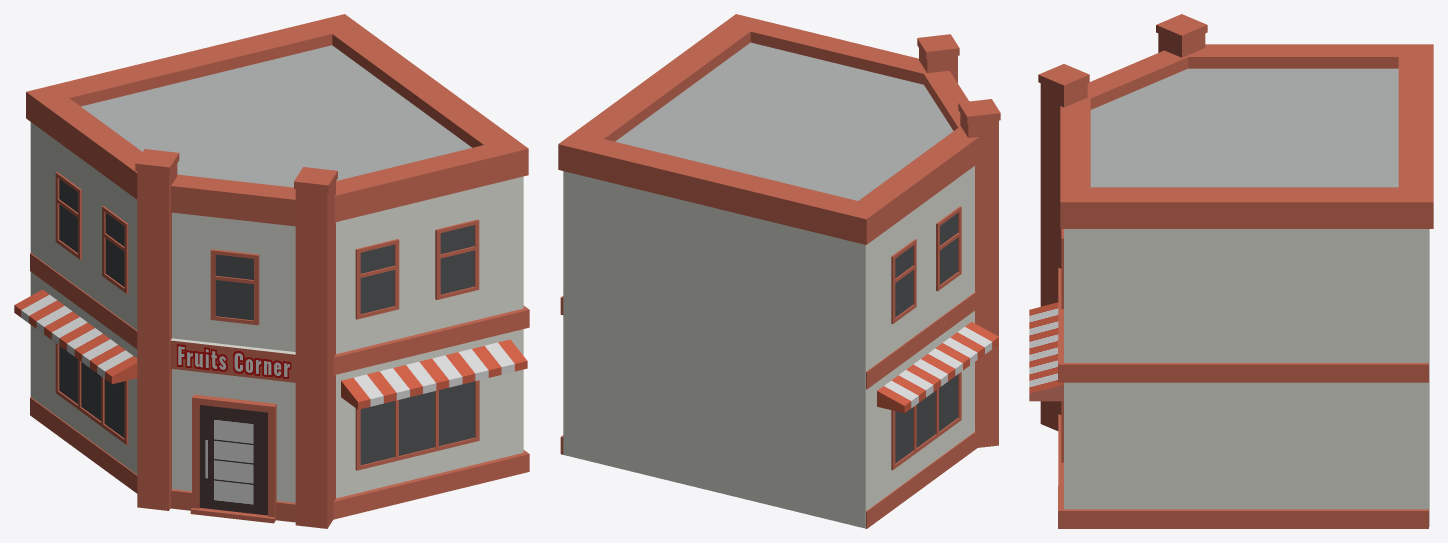
The model's file is building-fruits-shop.glb.
3 renders of one model, left to right at view 1: azimuth 30°, elevation 25°; view 2: azimuth 150°, elevation 25°; view 3: azimuth 270°, elevation 25°, orthographic. The views are drawn at different scales.
Visible parts, largest first — view 1: model; view 2: model; view 3: model.
Part boxes in pixels (box(x1,y1,x2,y2)): model: box(14, 14, 529, 528); model: box(558, 14, 1000, 528); model: box(1029, 14, 1433, 528).
Size of the model in its own units: 12.13 by 11.61 by 12.16.
Materials: 1 (1 with a texture image).
